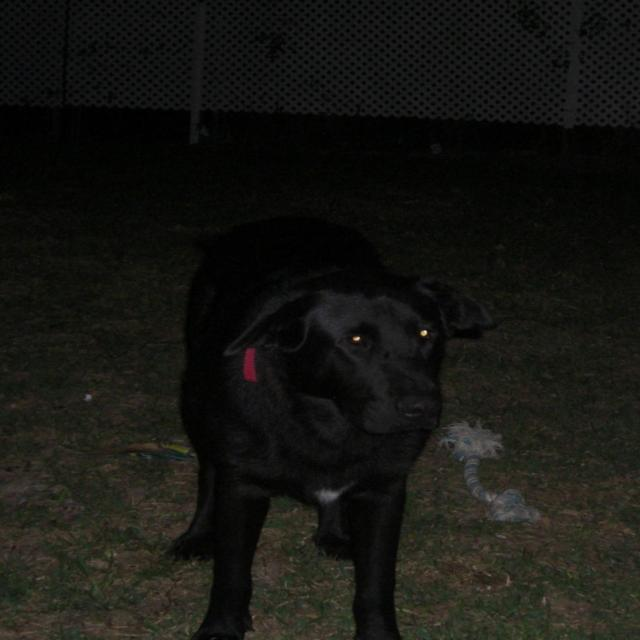dog: (141, 222, 515, 634)
